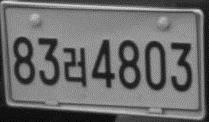0: (144, 40, 166, 90)
3: (37, 37, 60, 85), (170, 41, 192, 91)
4: (90, 38, 116, 88)
8: (117, 39, 141, 89), (12, 36, 35, 84)
러: (62, 46, 86, 87)
